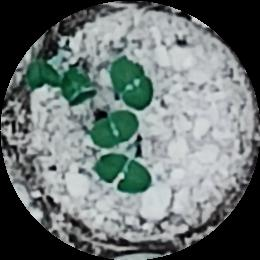Basil: (108, 58, 156, 110), (95, 154, 152, 195), (88, 111, 139, 147), (64, 72, 95, 103), (27, 63, 62, 90)
